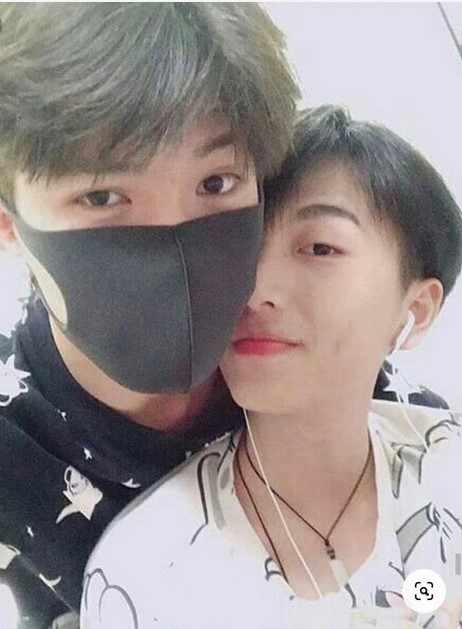face_no_mask: (217, 103, 458, 410)
face_with_mask: (8, 9, 278, 399)
